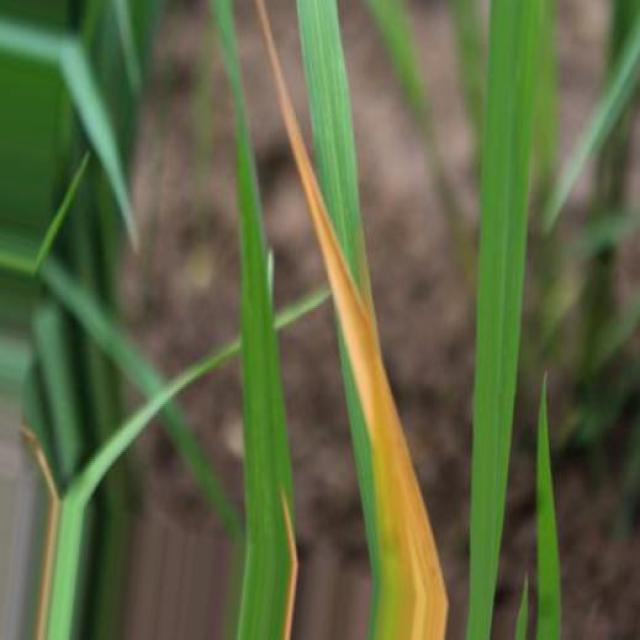Rice Tungro: (257, 0, 448, 638)
